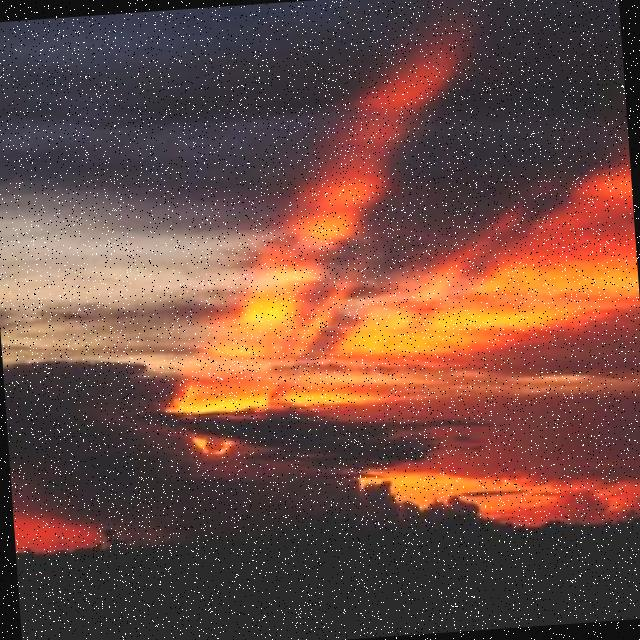Cb: (1, 27, 640, 557)
